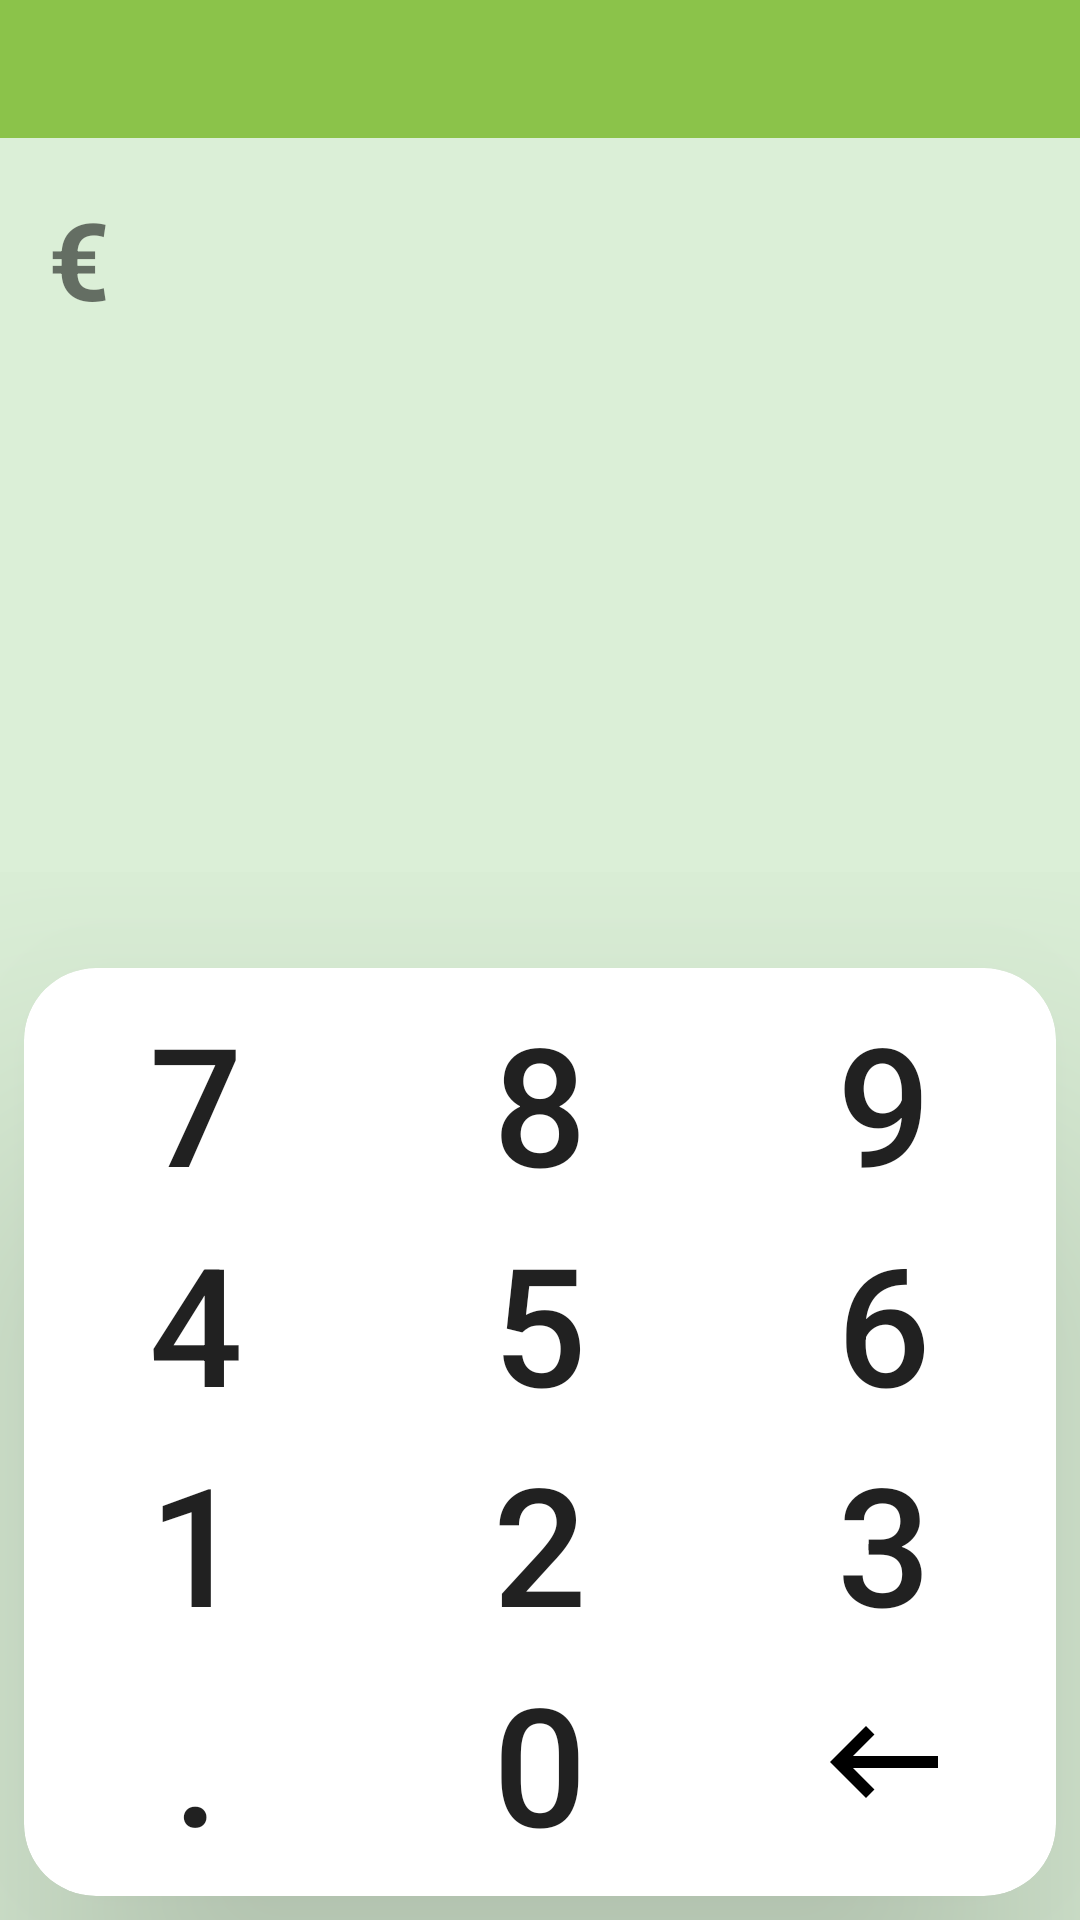

Point at icon controls on the screen. Image size 1080x1920, points as (x=x, y=y).
Cancella l'ultima cifra: (x=884, y=1762)
